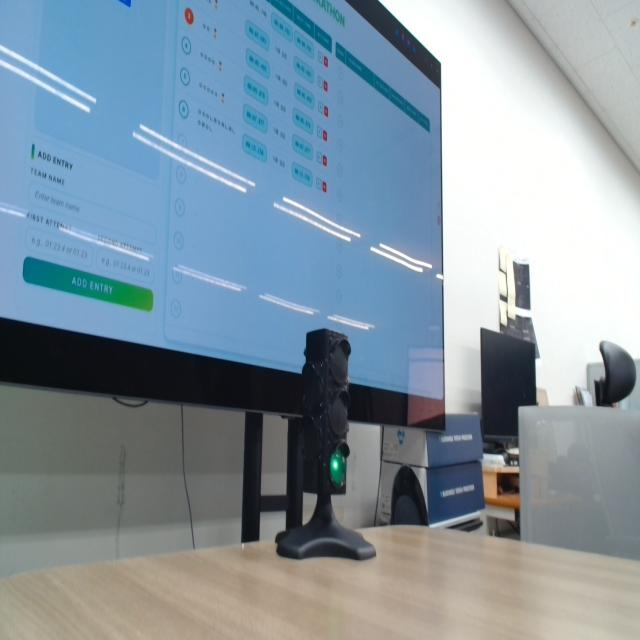green_light: (330, 450, 346, 487)
